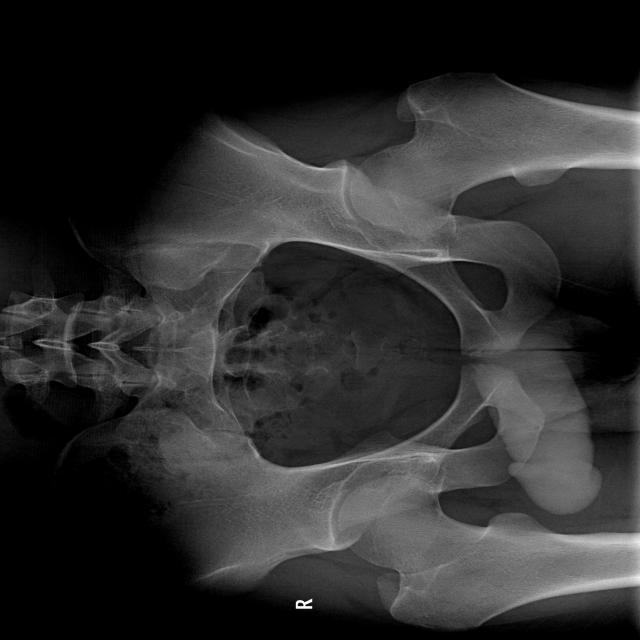normal-left: (348, 70, 639, 236)
normal-right: (337, 474, 640, 629)
